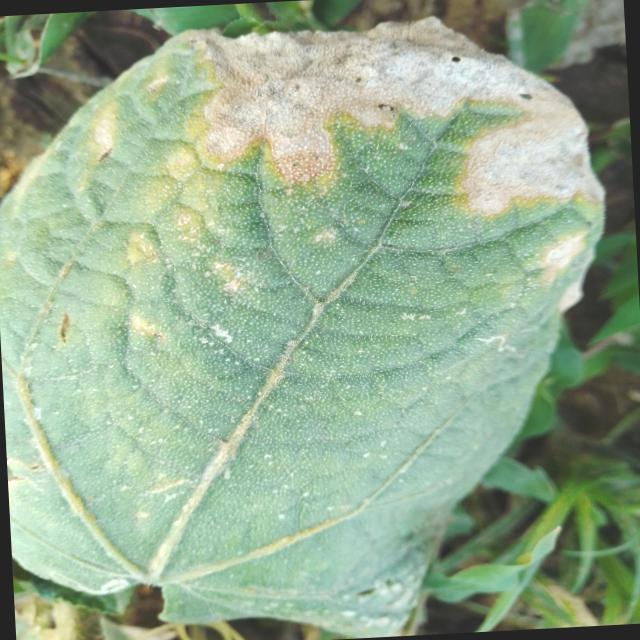cucumber_gummy: (0, 4, 634, 640)
